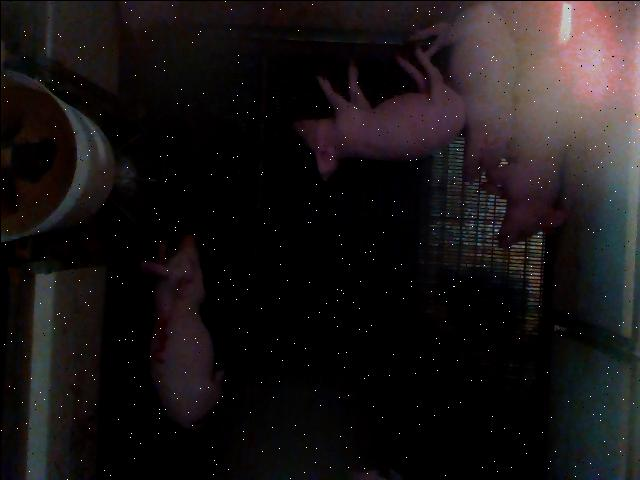pig-3: (138, 234, 222, 429)
